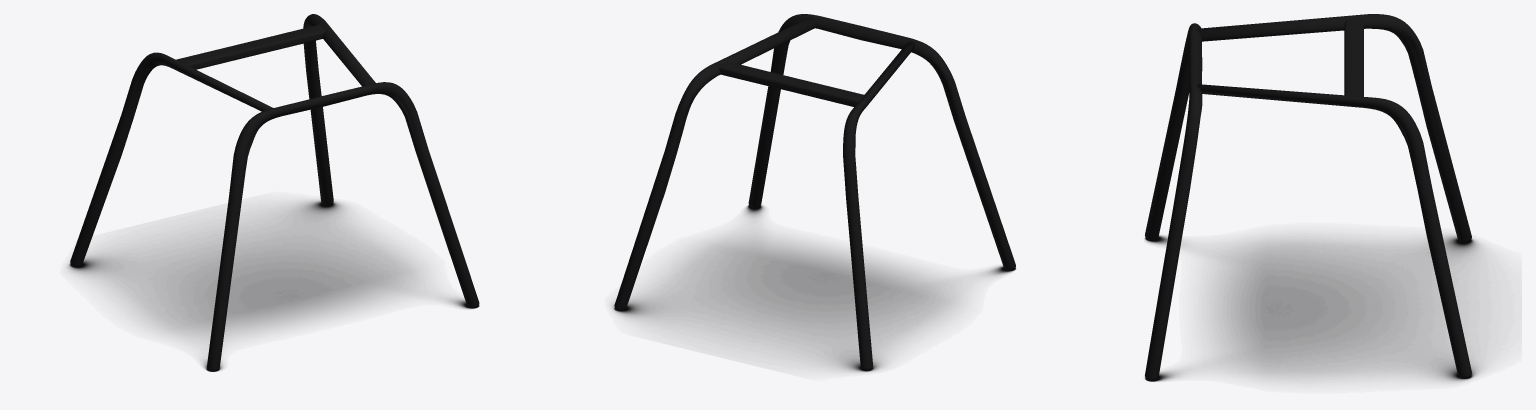
The model's file is Slim.glb.
3 views of the same model, side by side, from view 1: azimuth 30°, elevation 25°; view 2: azimuth 150°, elevation 25°; view 3: azimuth 270°, elevation 25° (orthographic). The views are drawn at different scales.
Parts seen in each view (by area): view 1: Shadow_slim, legs; view 2: Shadow_slim, legs; view 3: Shadow_slim, legs.
Boxes of the visible parts, left/top/right/bottom form: Shadow_slim: left=68, top=200, right=479, bottom=371; legs: left=70, top=14, right=479, bottom=370; Shadow_slim: left=612, top=205, right=1015, bottom=371; legs: left=614, top=14, right=1015, bottom=370; Shadow_slim: left=1145, top=235, right=1481, bottom=381; legs: left=1145, top=14, right=1471, bottom=380.
Bounding box in the file's own units: 0.5956 × 0.4001 × 0.6133.
2 materials, 1 textured.
